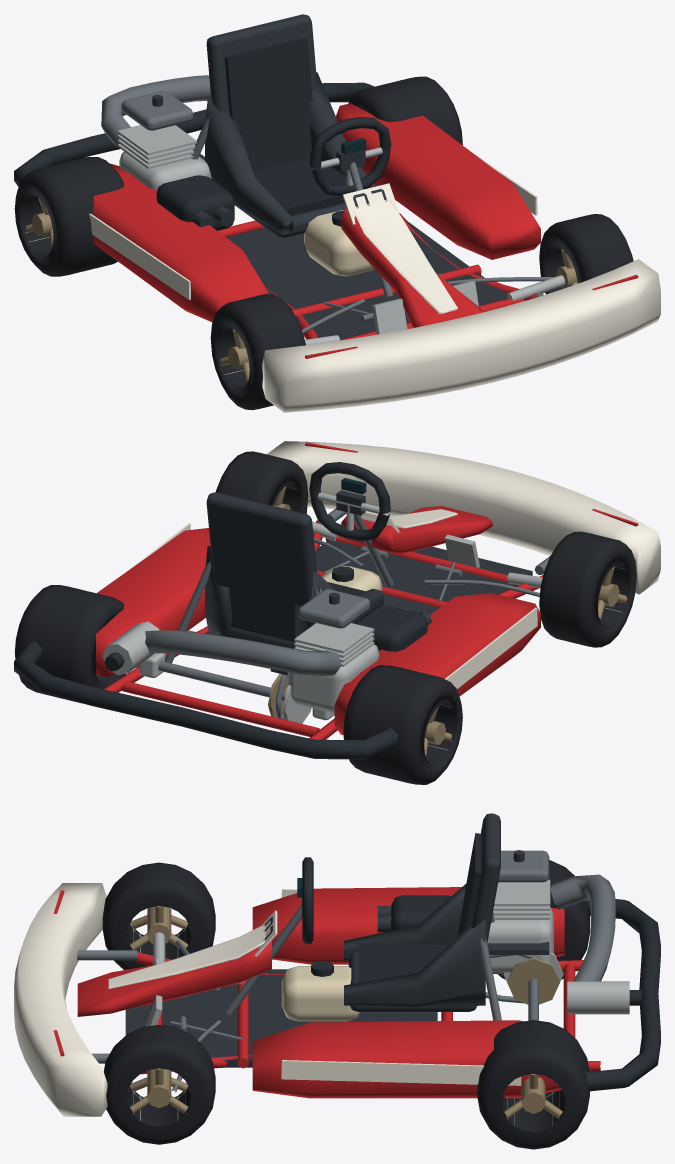
Rendered from apex-lod.glb.
3 views of the same model, one above another, from view 1: azimuth 30°, elevation 25°; view 2: azimuth 150°, elevation 25°; view 3: azimuth 270°, elevation 25° (orthographic).
Visible parts, largest first — view 1: Livery ivory (×2), paint, Slick vulcanised rubber (×4), Satin composite, Seat fabric, Moulded bumper polymer (×2), Steel fasteners, Brushed alloy (×2), Fuel reservoir, Magnesium wheel centres (×2); view 2: Slick vulcanised rubber (×4), paint, Livery ivory (×2), Satin composite (×2), Moulded bumper polymer (×2), Steel fasteners, Brushed alloy (×3), Magnesium wheel centres (×2), Fuel reservoir; view 3: paint, Slick vulcanised rubber (×4), Livery ivory (×2), Satin composite, Steel fasteners (×2), Moulded bumper polymer (×2), Brushed alloy, Magnesium wheel centres (×4), Seat fabric, Fuel reservoir.
Boxes of the visible parts, x1,y1,x2,y2 form: Livery ivory (×2): (89,154,660,412); paint: (92,103,540,340); Slick vulcanised rubber (×4): (14,76,633,410); Satin composite: (152,14,507,339); Seat fabric: (224,37,346,215); Moulded bumper polymer (×2): (14,82,391,230); Steel fasteners: (101,75,554,333); Brushed alloy (×2): (117,125,565,345); Fuel reservoir: (304,210,374,276); Magnesium wheel centres (×2): (25,198,249,382); Slick vulcanised rubber (×4): (14,451,636,784); paint: (95,506,543,739); Livery ivory (×2): (131,441,660,688); Satin composite (×2): (204,490,532,675); Moulded bumper polymer (×2): (14,462,427,759); Steel fasteners: (139,514,539,719); Brushed alloy (×3): (102,492,542,723); Magnesium wheel centres (×2): (424,567,627,756); Fuel reservoir: (321,566,382,591); paint: (77,887,600,1098); Slick vulcanised rubber (×4): (102,860,589,1149); Livery ivory (×2): (14,883,521,1116); Satin composite: (125,813,549,1067); Steel fasteners (×2): (77,850,615,1092); Moulded bumper polymer (×2): (302,857,660,1091); Brushed alloy: (153,879,629,1014); Magnesium wheel centres (×4): (130,906,562,1118); Seat fabric: (358,833,480,983); Fuel reservoir: (281,966,360,1021).
Size of the model in its own units: 1.96 by 1.01 by 2.7.
